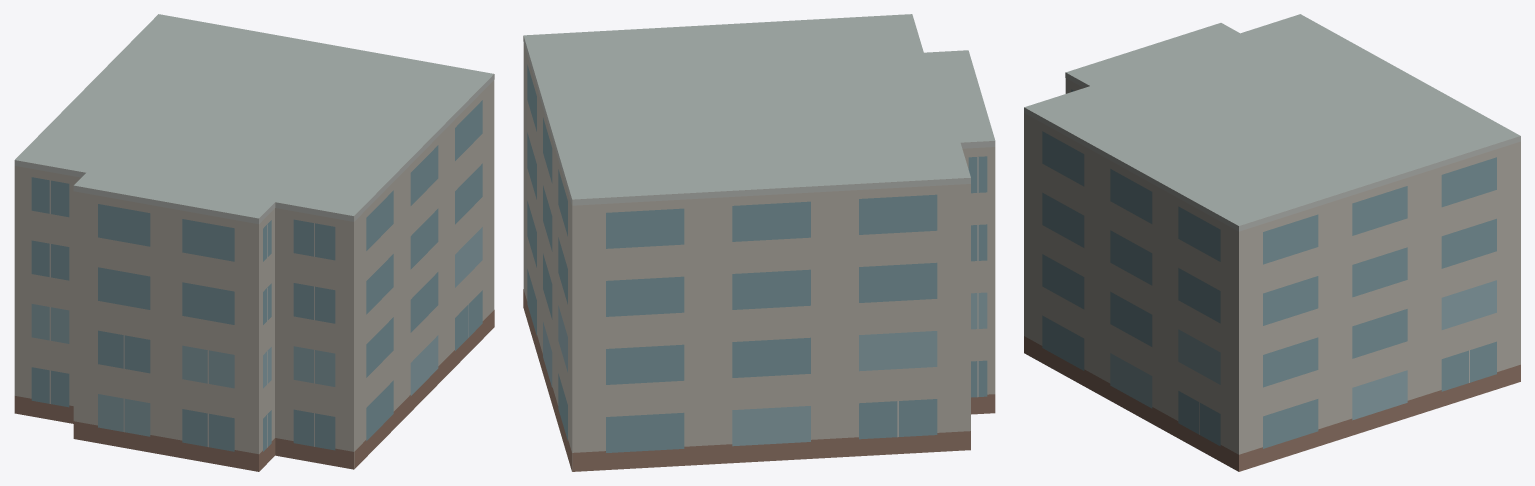
Rendered from survey-upis-32807868.glb.
3 renders of one model, left to right at view 1: azimuth 30°, elevation 25°; view 2: azimuth 150°, elevation 25°; view 3: azimuth 270°, elevation 25°, orthographic. The views are drawn at different scales.
Parts seen in each view (by area): view 1: survey-upis-32807868.tmp; view 2: survey-upis-32807868.tmp; view 3: survey-upis-32807868.tmp.
Boxes of the visible parts, left/top/right/bottom form: survey-upis-32807868.tmp: left=14, top=14, right=494, bottom=471; survey-upis-32807868.tmp: left=523, top=14, right=995, bottom=471; survey-upis-32807868.tmp: left=1024, top=14, right=1520, bottom=471.
Size of the model in its own units: 20 by 10.8 by 19.79.
